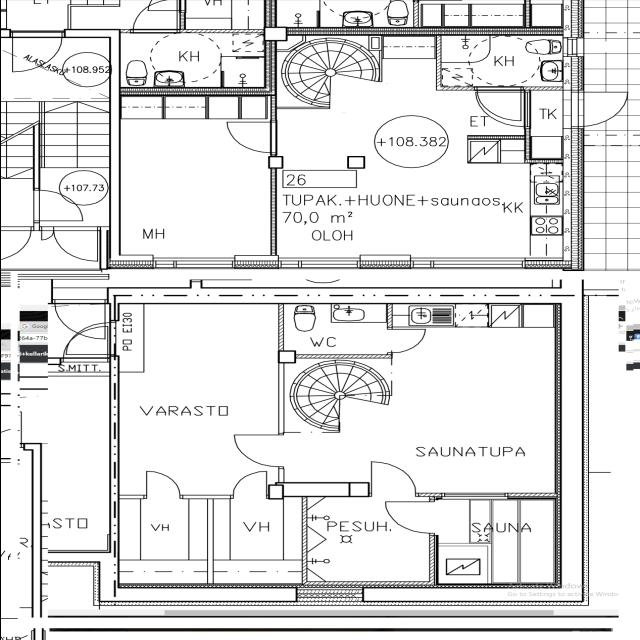door: (559, 86, 632, 132), (3, 30, 67, 76), (467, 85, 537, 127), (121, 0, 185, 45), (49, 298, 115, 340), (54, 322, 114, 367), (363, 460, 425, 502), (21, 187, 82, 226), (221, 119, 283, 156), (377, 499, 437, 534), (226, 430, 282, 466), (50, 227, 102, 261), (137, 469, 184, 503), (2, 222, 38, 265), (225, 470, 273, 502)
window: (406, 253, 532, 275), (279, 579, 373, 605), (146, 253, 247, 275), (269, 254, 369, 273), (558, 36, 588, 61)
